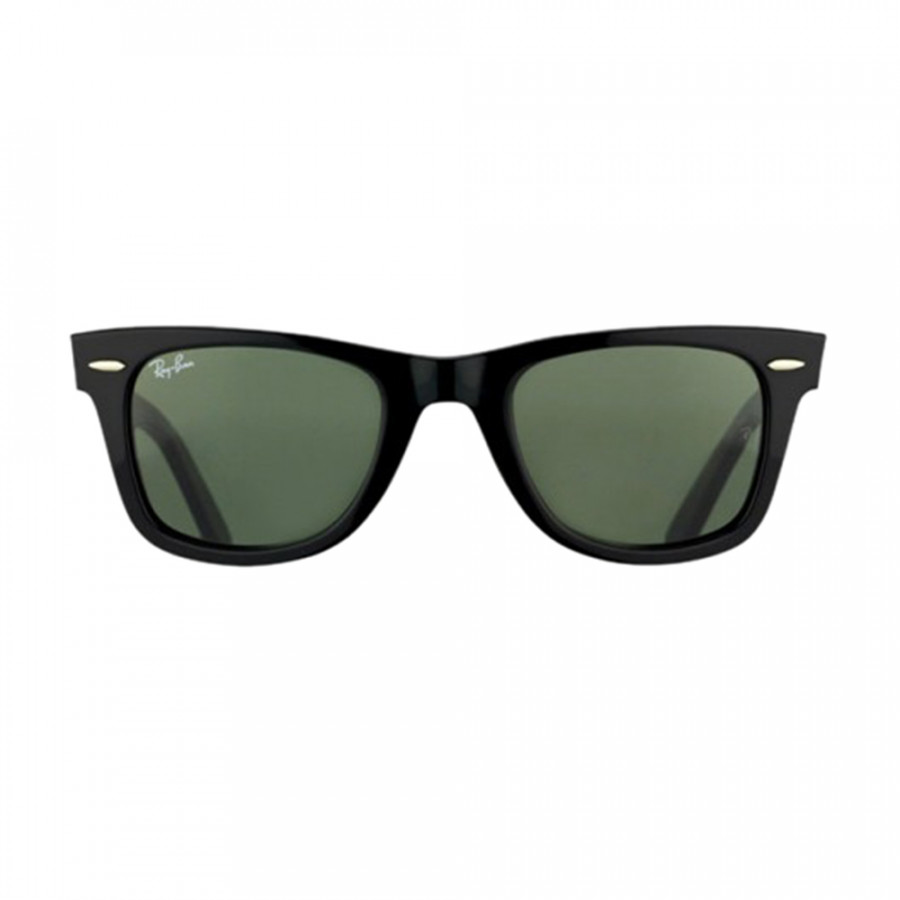Rayban: (139, 346, 203, 387)
